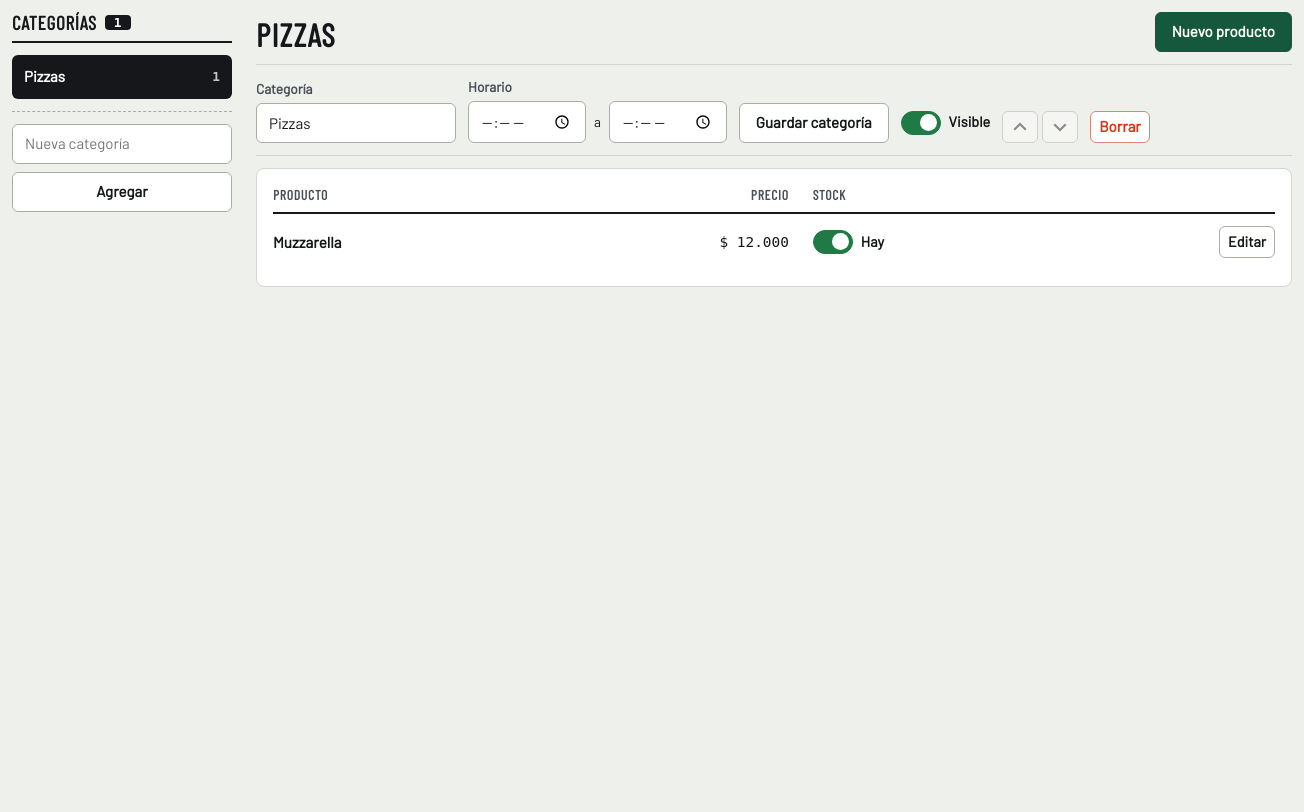
precio inválido muestra el error y no guarda
Step 1. Click the button "Nuevo producto" → (1223, 32), box [1155,12,1292,52]
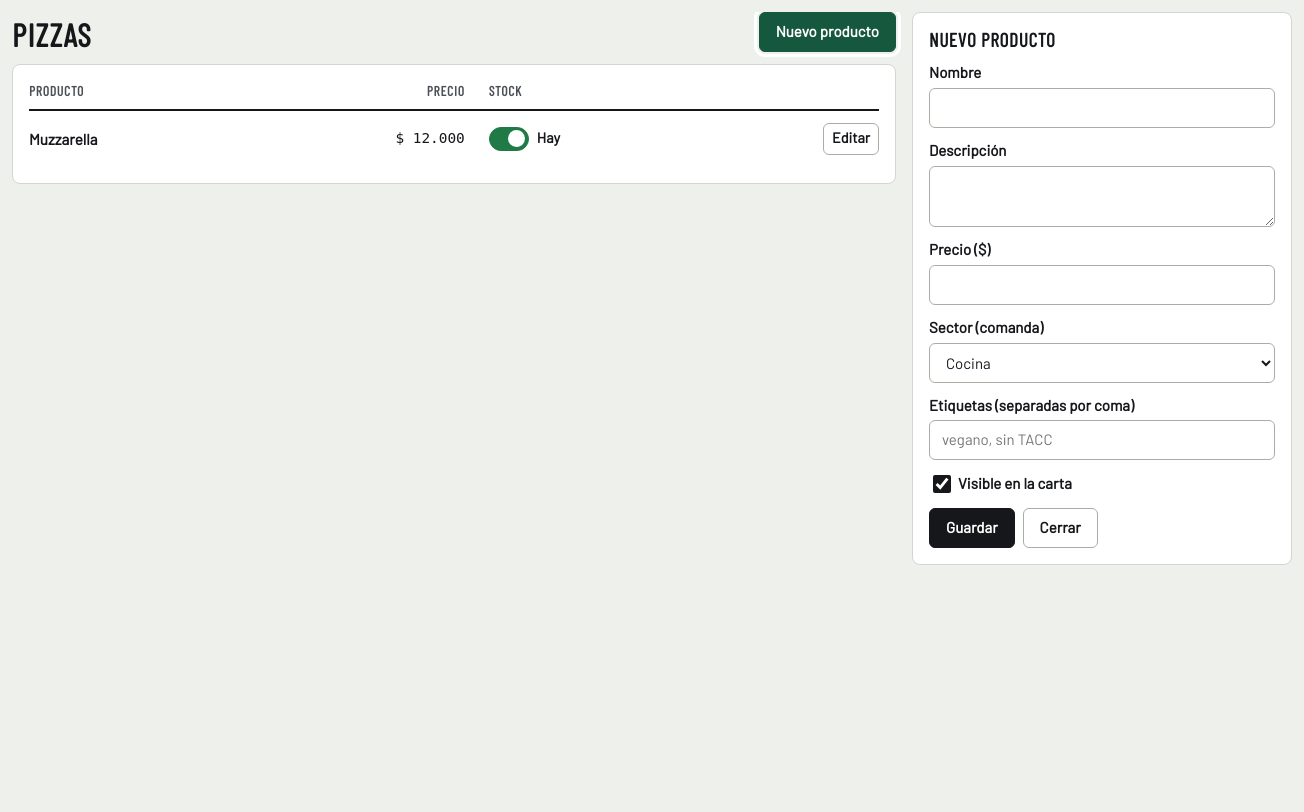
Step 2. Type "X" into the field labelled "Nombre" → (1102, 108), box [929,88,1275,128]
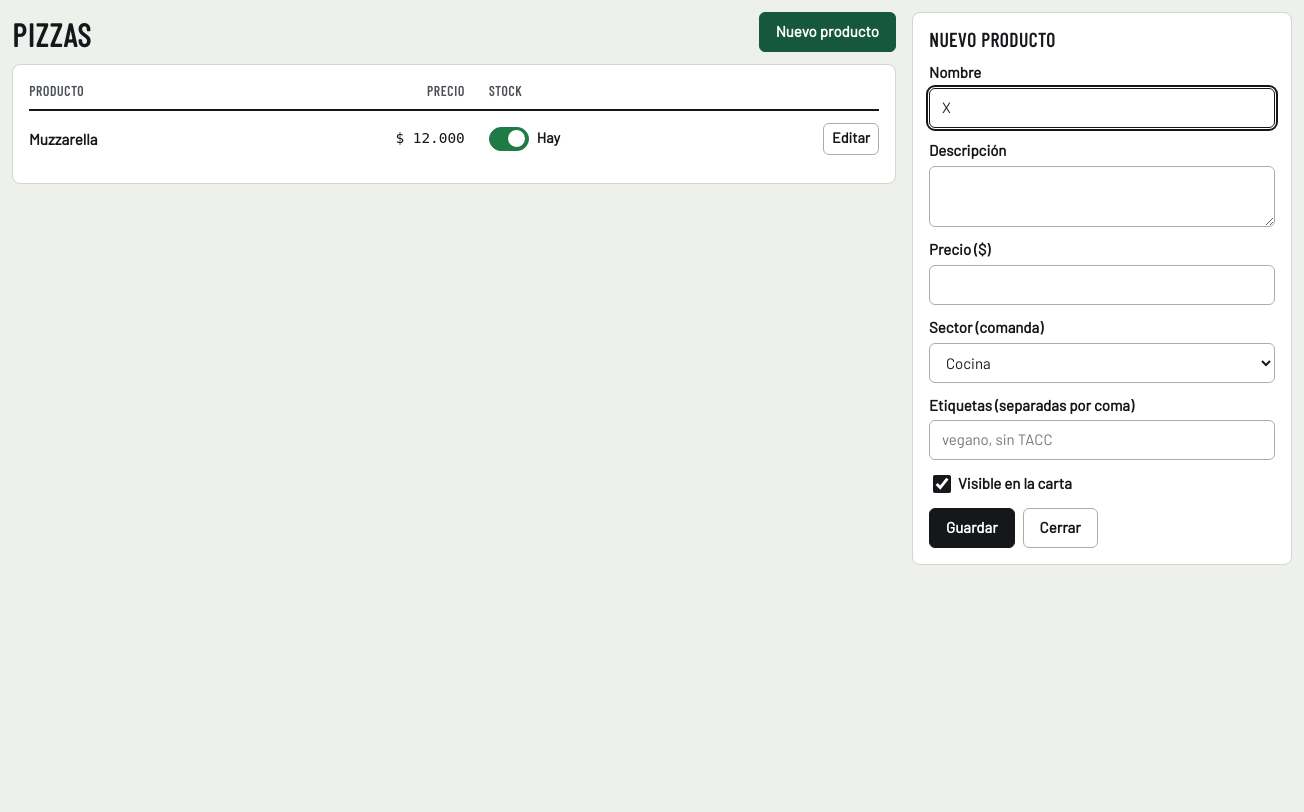
Step 3. Type "abc" into the field labelled "Precio ($)" → (1102, 285), box [929,265,1275,305]
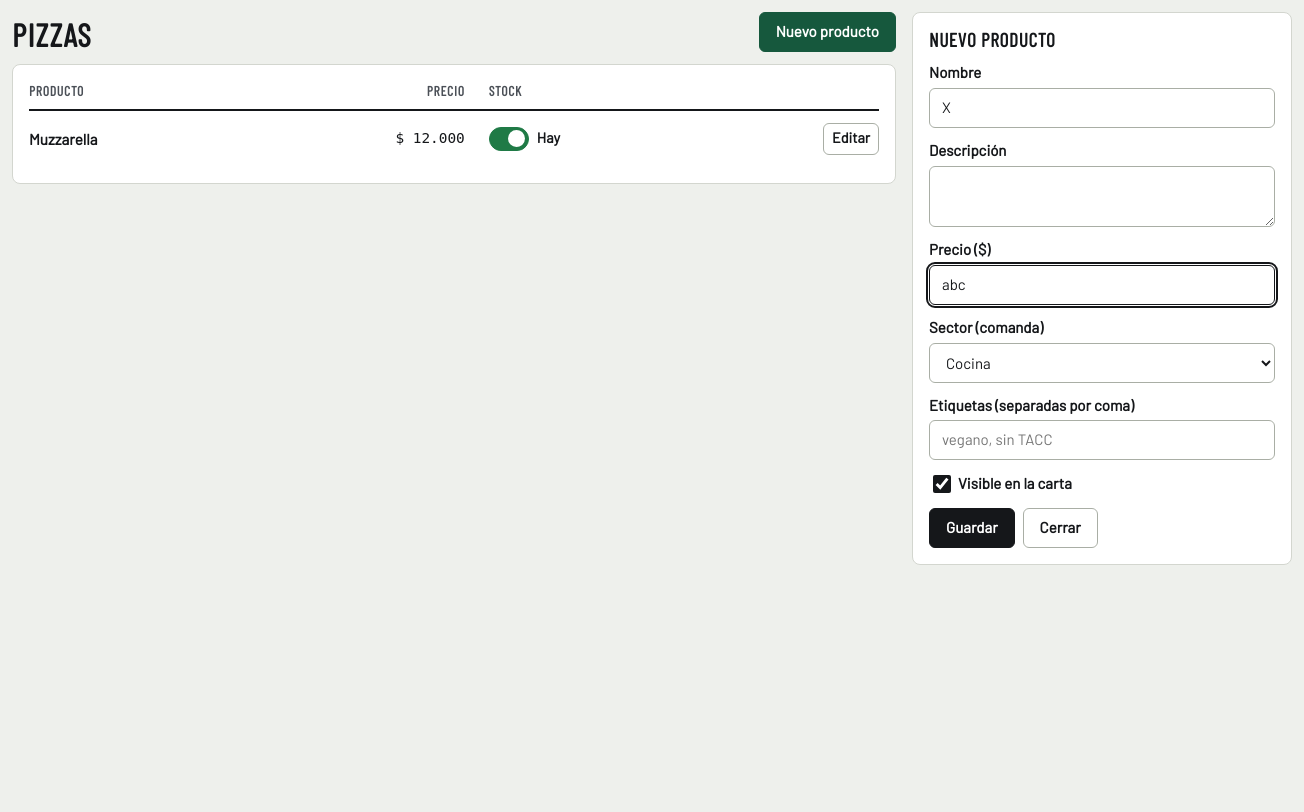
Step 4. Click the button "Guardar" → (972, 528), box [929,508,1015,548]
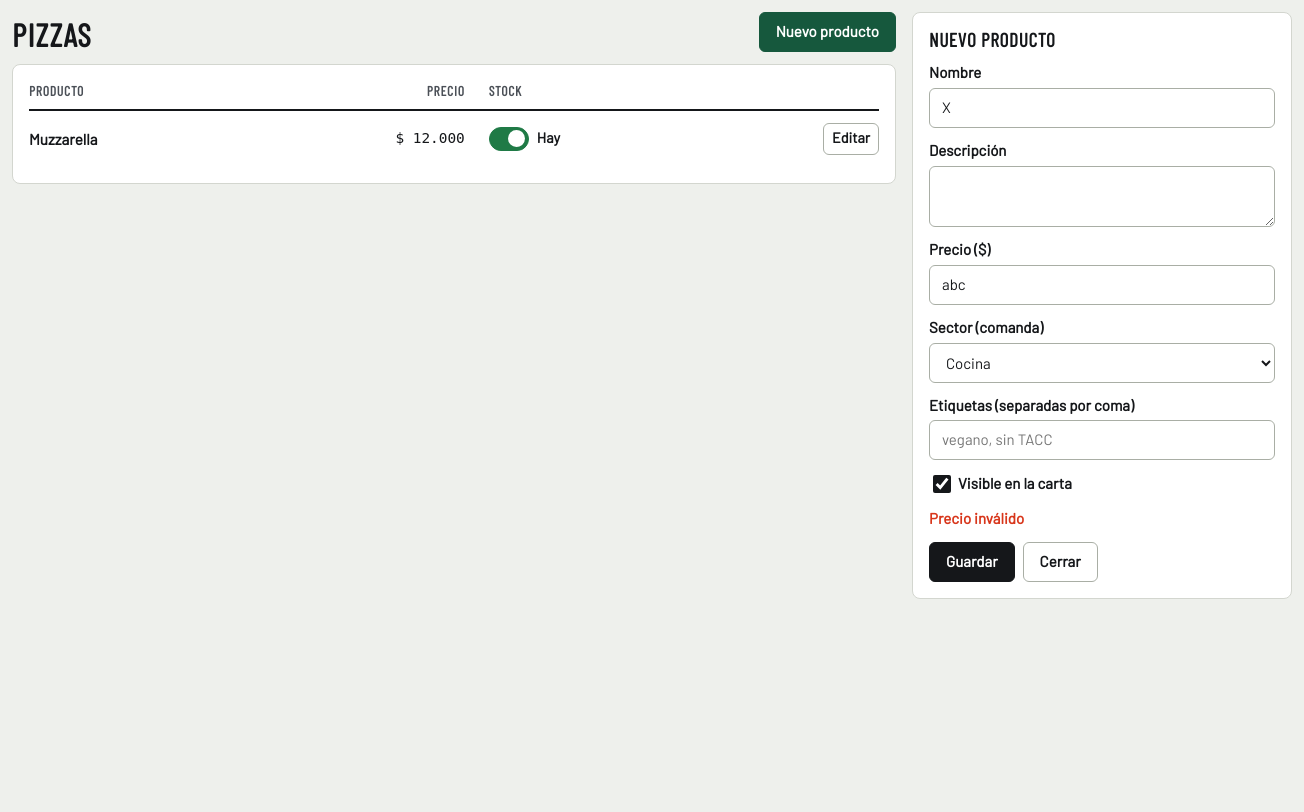
Expected: the text "Precio inválido" is shown, [929,509,1024,527]
